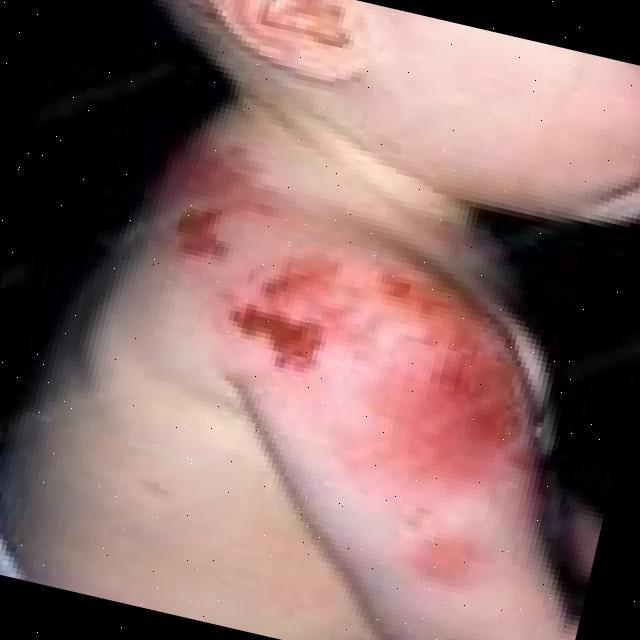Shingles: (155, 145, 534, 583)
